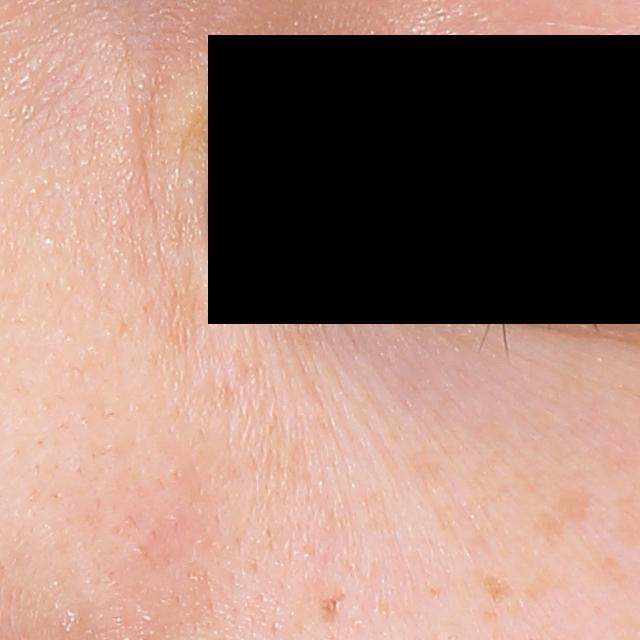melasma: (149, 273, 214, 362), (549, 484, 595, 535), (584, 546, 631, 589), (522, 562, 566, 599), (476, 568, 517, 604)
